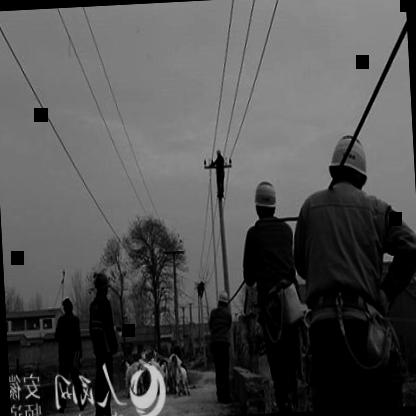head: (58, 294, 76, 316)
helmet: (316, 125, 374, 210), (251, 172, 280, 222), (90, 266, 112, 298), (214, 285, 230, 310)
